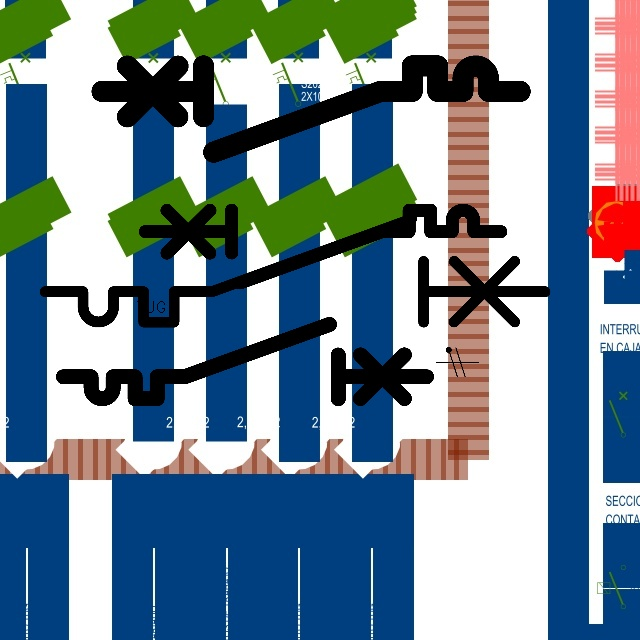interruptor_termomagnetico: (32, 206, 558, 335), (91, 55, 531, 162), (54, 315, 435, 408), (136, 201, 510, 292)
